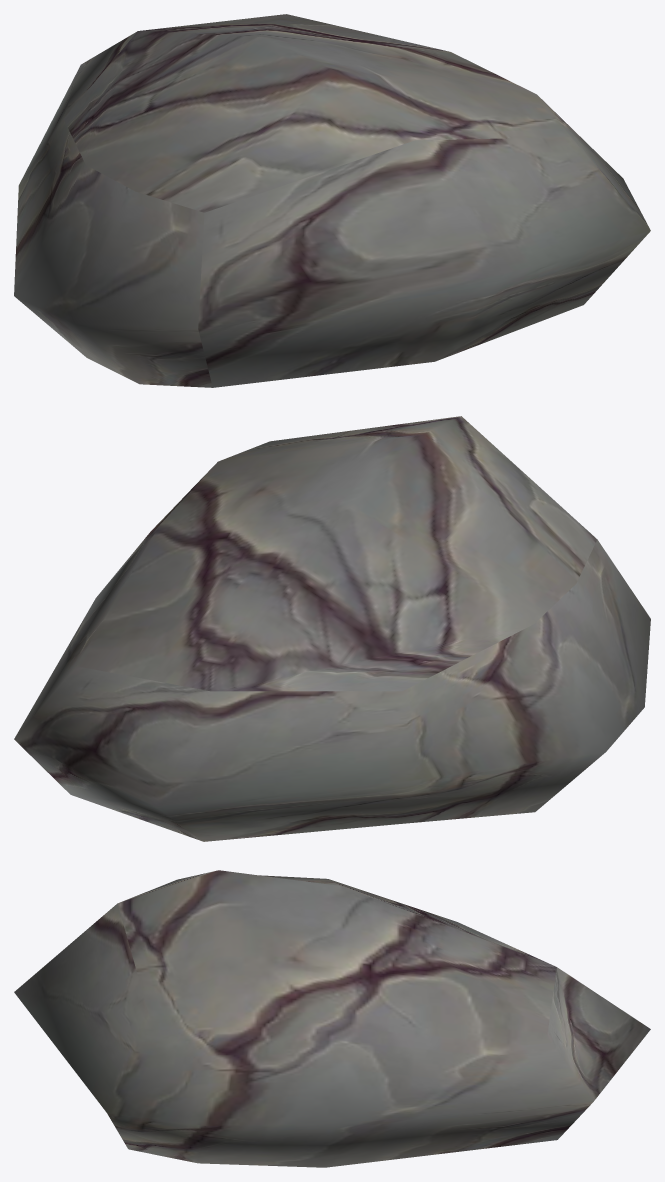
The model's file is Rock.fbx.
The picture shows the model from 3 angles, top to bottom: view 1: azimuth 30°, elevation 25°; view 2: azimuth 150°, elevation 25°; view 3: azimuth 270°, elevation 25°; orthographic projection. The views are drawn at different scales.
Visible parts, largest first — view 1: Cube; view 2: Cube; view 3: Cube.
Boxes of the visible parts, bbox=[...] form: Cube: bbox=[14, 14, 650, 387]; Cube: bbox=[14, 416, 650, 841]; Cube: bbox=[14, 870, 650, 1167].
Size of the model in its own units: 4.06 by 2.14 by 5.05.
